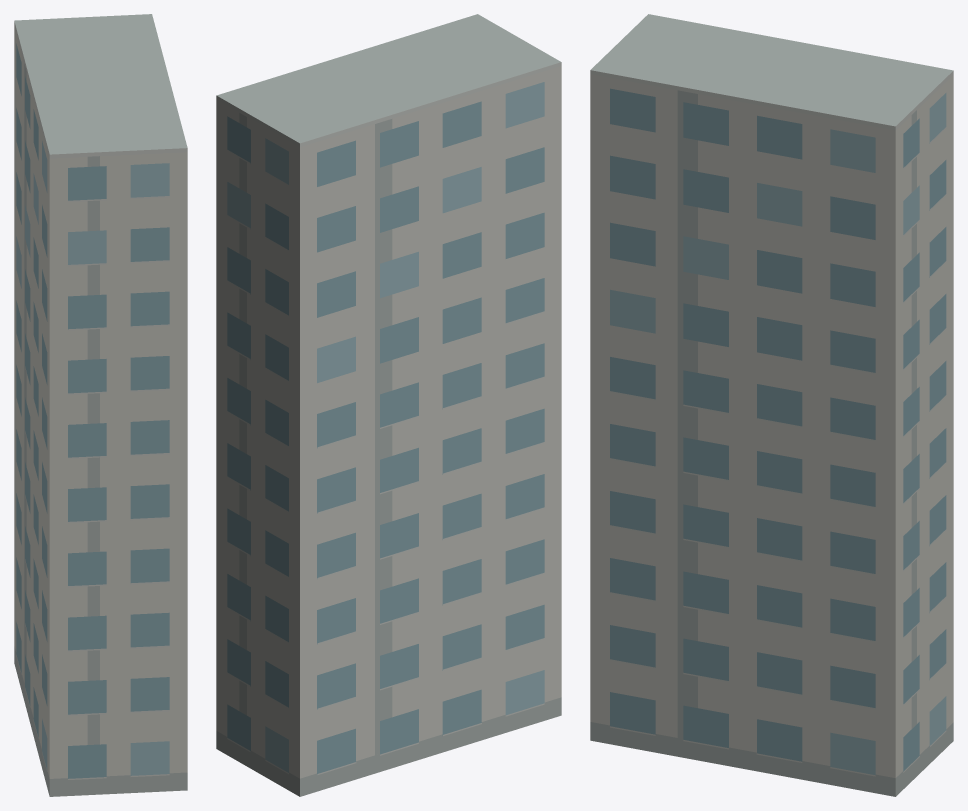
File: residential-546fcd25-4391-457f-9266-de0728e6815b.glb
The picture shows the model from 3 angles, left to right: view 1: azimuth 30°, elevation 25°; view 2: azimuth 150°, elevation 25°; view 3: azimuth 270°, elevation 25°; orthographic projection. The views are drawn at different scales.
Visible parts, largest first — view 1: residential-546fcd25-4391-457f-9266-de0728e6815b.tmp; view 2: residential-546fcd25-4391-457f-9266-de0728e6815b.tmp; view 3: residential-546fcd25-4391-457f-9266-de0728e6815b.tmp.
Boxes of the visible parts, bbox=[...] form: residential-546fcd25-4391-457f-9266-de0728e6815b.tmp: bbox=[14, 14, 187, 796]; residential-546fcd25-4391-457f-9266-de0728e6815b.tmp: bbox=[216, 14, 561, 796]; residential-546fcd25-4391-457f-9266-de0728e6815b.tmp: bbox=[590, 14, 953, 796].
Size of the model in its own units: 14.4 by 40 by 19.66.
